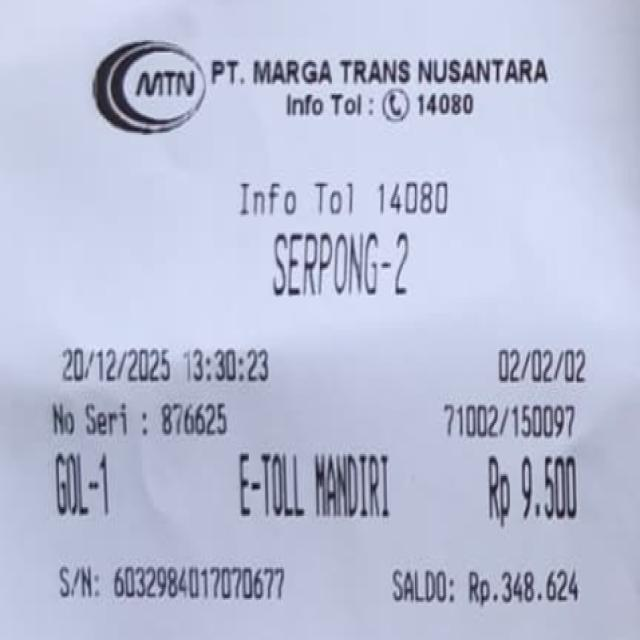date: (59, 344, 283, 389)
store: (205, 48, 560, 127)
total: (484, 455, 588, 529)
